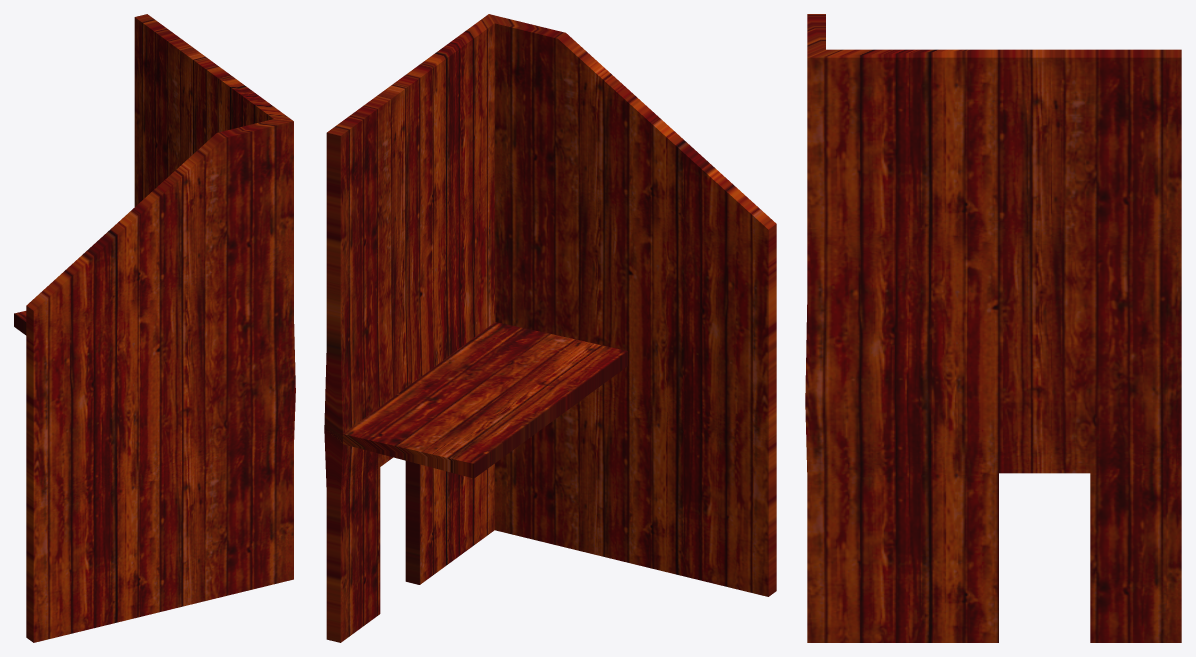
3 renders of one model, left to right at view 1: azimuth 30°, elevation 25°; view 2: azimuth 150°, elevation 25°; view 3: azimuth 270°, elevation 25°, orthographic. The views are drawn at different scales.
Parts seen in each view (by area): view 1: Plane034_Material001_0; view 2: Plane034_Material001_0; view 3: Plane034_Material001_0.
Part boxes in pixels (left/top/right/bottom): Plane034_Material001_0: left=14, top=14, right=295, bottom=642; Plane034_Material001_0: left=324, top=14, right=776, bottom=642; Plane034_Material001_0: left=805, top=14, right=1181, bottom=642.
Bounding box in the file's own units: 4.13 × 6.9 × 4.02.
Materials: 1 (1 with a texture image).
